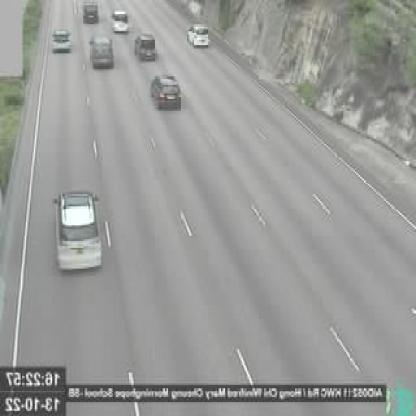Car: (50, 189, 104, 275), (151, 72, 182, 110), (89, 34, 112, 69), (136, 32, 158, 60), (188, 22, 210, 48), (52, 27, 72, 51), (110, 10, 128, 34), (81, 1, 97, 24)
